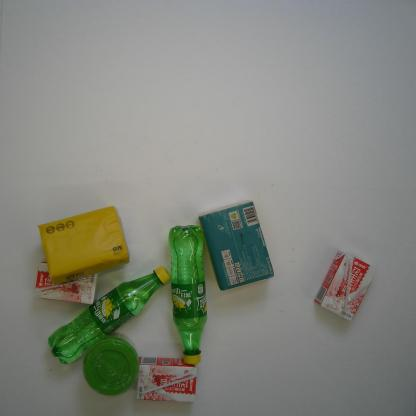Drink: (47, 266, 171, 366), (167, 223, 208, 365)
Instant Drink: (82, 337, 140, 397)
Milk: (313, 249, 378, 322), (34, 261, 100, 306), (136, 356, 198, 403)
Tissue: (36, 205, 130, 286), (197, 199, 275, 292)
